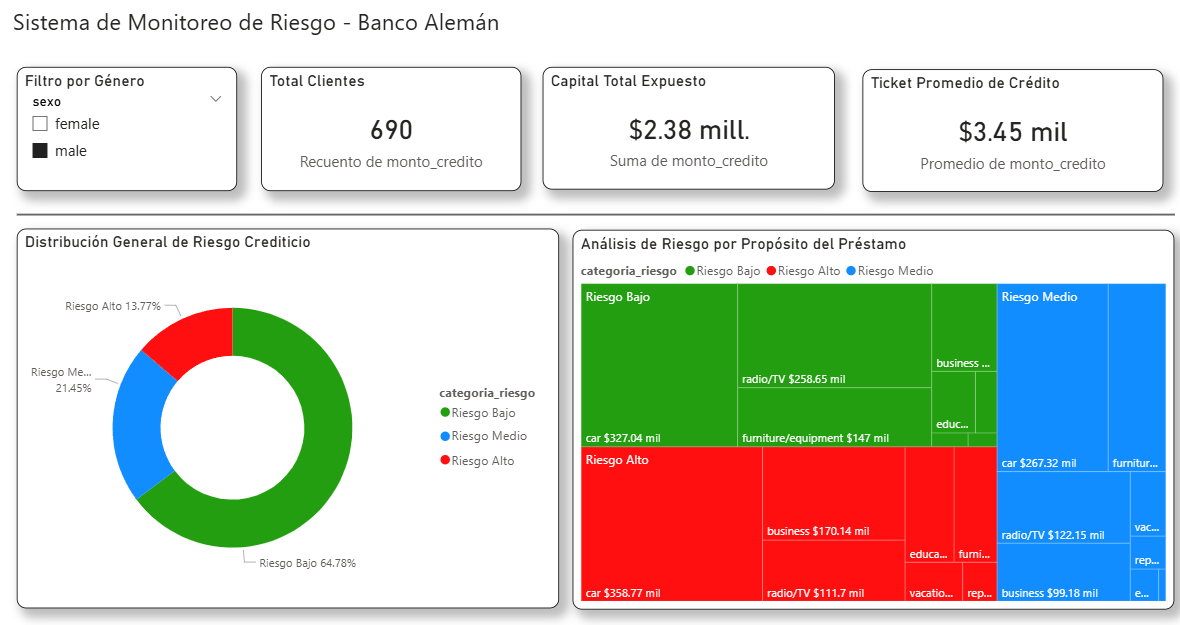

Layout of this report page (visuals, bound fields, positions):
{"tool":"powerbi","page":{"name":"Página 1","canvas":[1280,720],"ordinal":0},"visuals":[{"type":"donutChart","title":"Distribución General de Riesgo Crediticio","fields":{"Category":["vista_analisis_riesgo.categoria_riesgo"],"Y":["CountNonNull(vista_analisis_riesgo.categoria_riesgo)"]},"box":[23.9,261.7,579.4,405.9],"z":0},{"type":"slicer","title":"Filtro por Género","fields":{"Values":["vista_analisis_riesgo.sexo"]},"box":[23.9,90.2,235.4,132.8],"z":1},{"type":"card","title":"Total Clientes","fields":{"Values":["CountNonNull(vista_analisis_riesgo.monto_credito)"]},"box":[284.9,90.2,277.6,132.8],"z":2},{"type":"treemap","title":"Análisis de Riesgo por Propósito del Préstamo","fields":{"Values":["Sum(vista_analisis_riesgo.monto_credito)"],"Group":["vista_analisis_riesgo.categoria_riesgo"],"Details":["vista_analisis_riesgo.proposito"]},"box":[618.4,263.2,642.8,405.9],"z":3},{"type":"card","title":"Ticket Promedio de Crédito","fields":{"Values":["Avg(vista_analisis_riesgo.monto_credito)"]},"box":[927.7,91.7,321.4,131.3],"z":4},{"type":"card","title":"Capital Total Expuesto","fields":{"Values":["Sum(vista_analisis_riesgo.monto_credito)"]},"box":[586.7,90.2,312.3,131.3],"z":5},{"type":"shape","box":[24.1,96.9,1237.3,300.3],"z":6},{"type":"textbox","box":[15.1,19.6,624.7,57.3],"z":7}]}

Visuals, with their boxes on the page's 1280x720 design canvas (x1, y1, x2, y2). These are canvas units, not pixel positions in the 1180x625 screenshot, which may show the page scaled, cropped or inside an application window:
"Distribución General de Riesgo Crediticio" donutChart: detection(24, 262, 603, 668)
"Filtro por Género" slicer: detection(24, 90, 259, 223)
"Total Clientes" card: detection(285, 90, 562, 223)
"Análisis de Riesgo por Propósito del Préstamo" treemap: detection(618, 263, 1261, 669)
"Ticket Promedio de Crédito" card: detection(928, 92, 1249, 223)
"Capital Total Expuesto" card: detection(587, 90, 899, 222)
shape: detection(24, 97, 1261, 397)
textbox: detection(15, 20, 640, 77)
